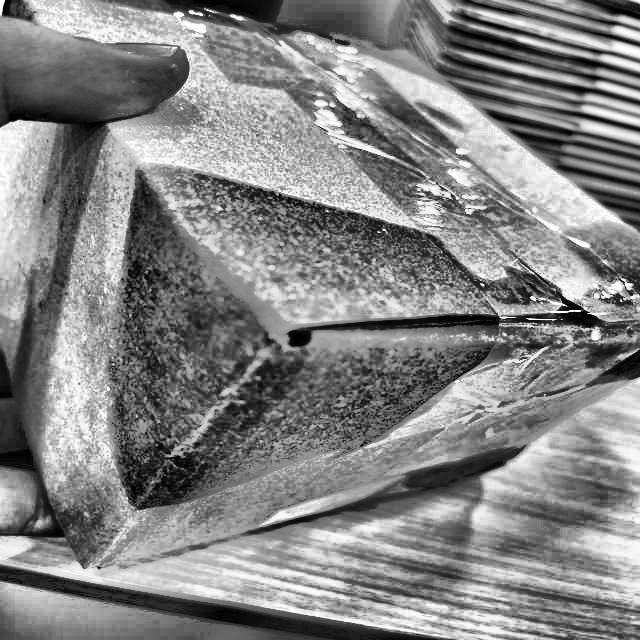box: (0, 0, 639, 581)
wet: (103, 144, 479, 508)
